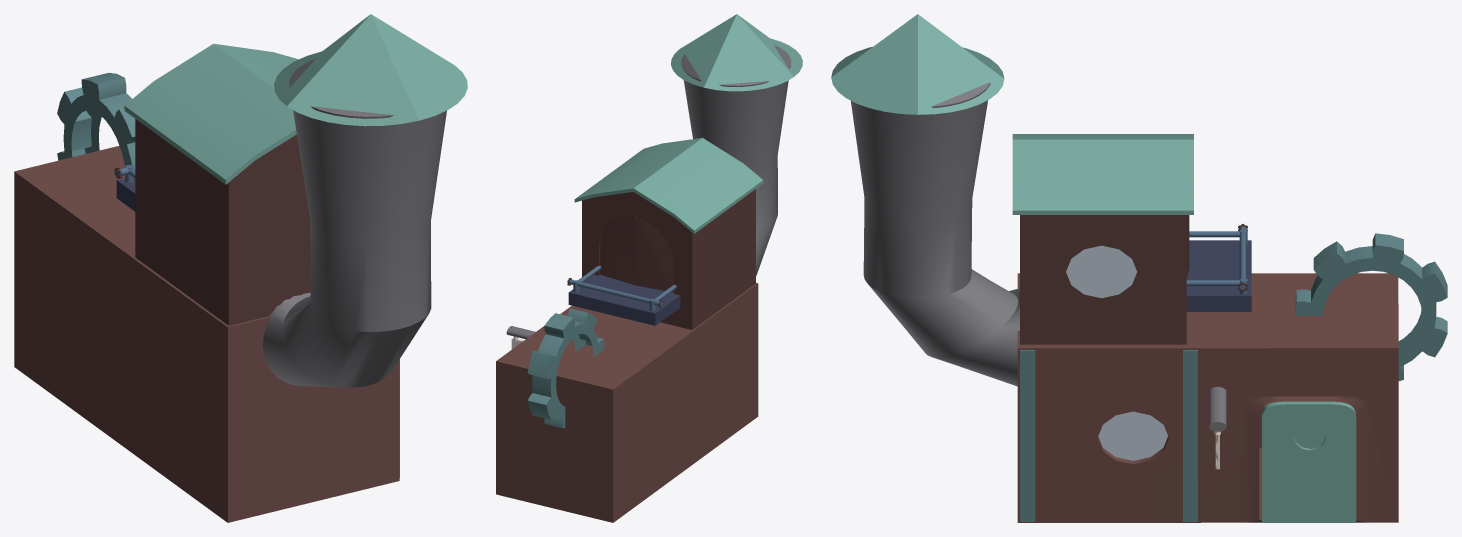
File: Building21.fbx
The picture shows the model from 3 angles, left to right: view 1: azimuth 30°, elevation 25°; view 2: azimuth 150°, elevation 25°; view 3: azimuth 270°, elevation 25°; orthographic projection. The views are drawn at different scales.
Parts seen in each view (by area): view 1: bakery; view 2: bakery; view 3: bakery.
Part boxes in pixels (x1,y1,x2,y2): bakery: (14, 14, 467, 522); bakery: (496, 14, 802, 522); bakery: (831, 14, 1447, 522).
Size of the model in its own units: 624 by 1227 by 1452.
Materials: 9 (1 with a texture image).
